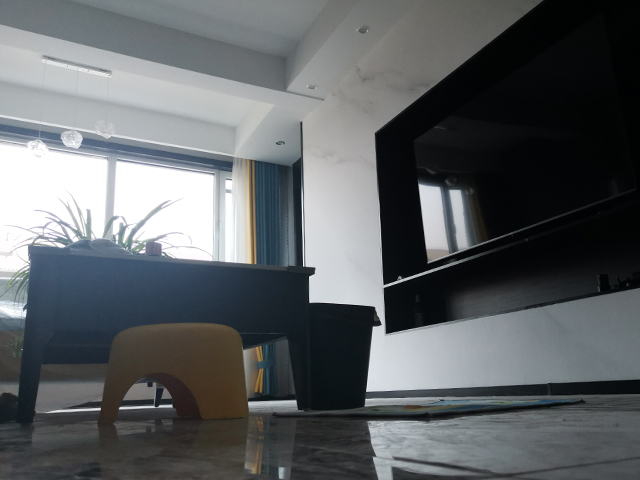carpet: (269, 395, 588, 423)
curtain: (231, 159, 286, 400)
stool: (96, 320, 252, 427)
table: (14, 242, 319, 427)
trashcan: (287, 301, 382, 412)
